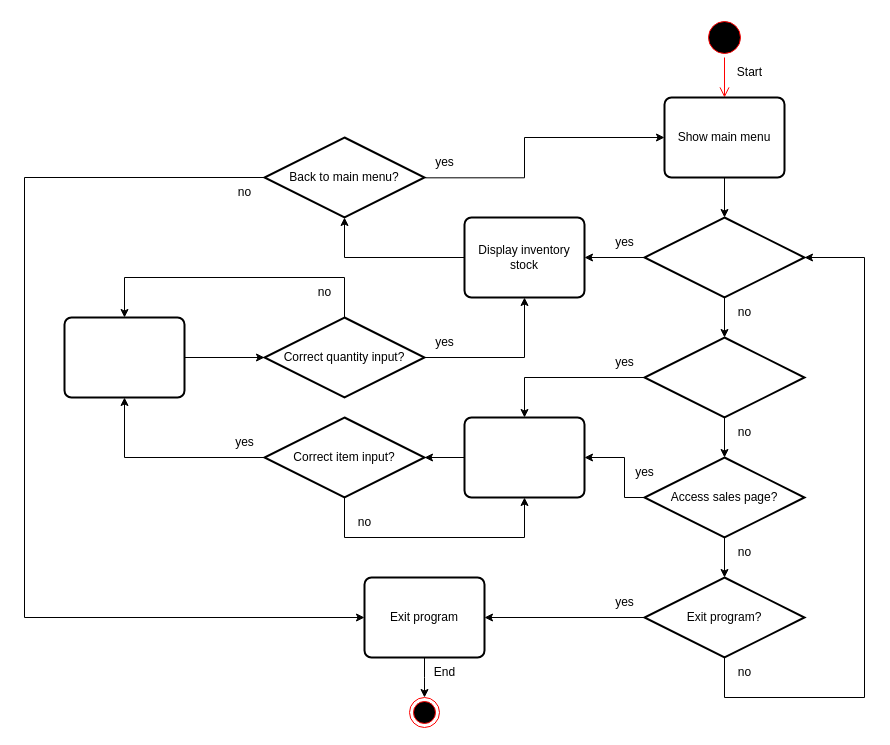
Some shapes in this 890 by 745 pixel diagram are drawn without their labels. Each missing label, with the box of its shape:
Access add stock page?: (643, 336, 805, 418)
Access display page?: (643, 216, 805, 298)
Choose item: (463, 416, 585, 498)
Enter quantity to modify: (63, 316, 185, 398)
